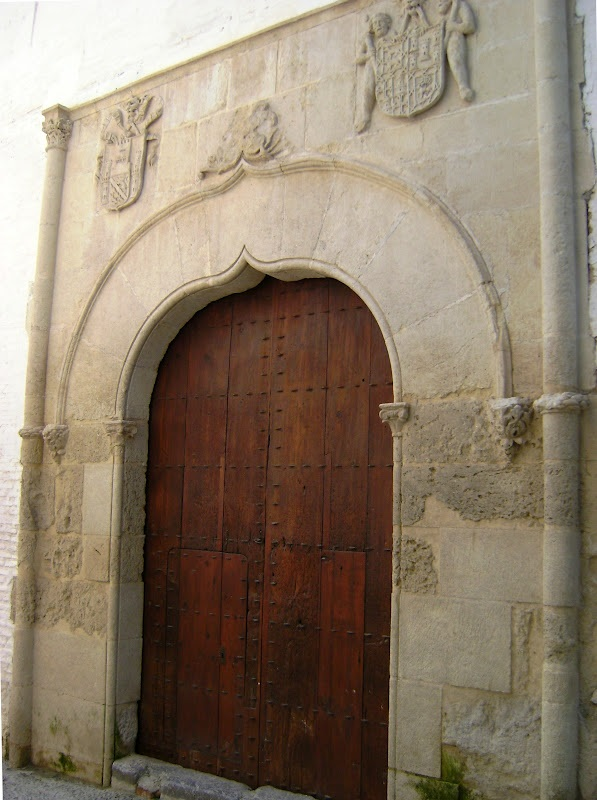arco-conopial: (124, 239, 409, 350)
